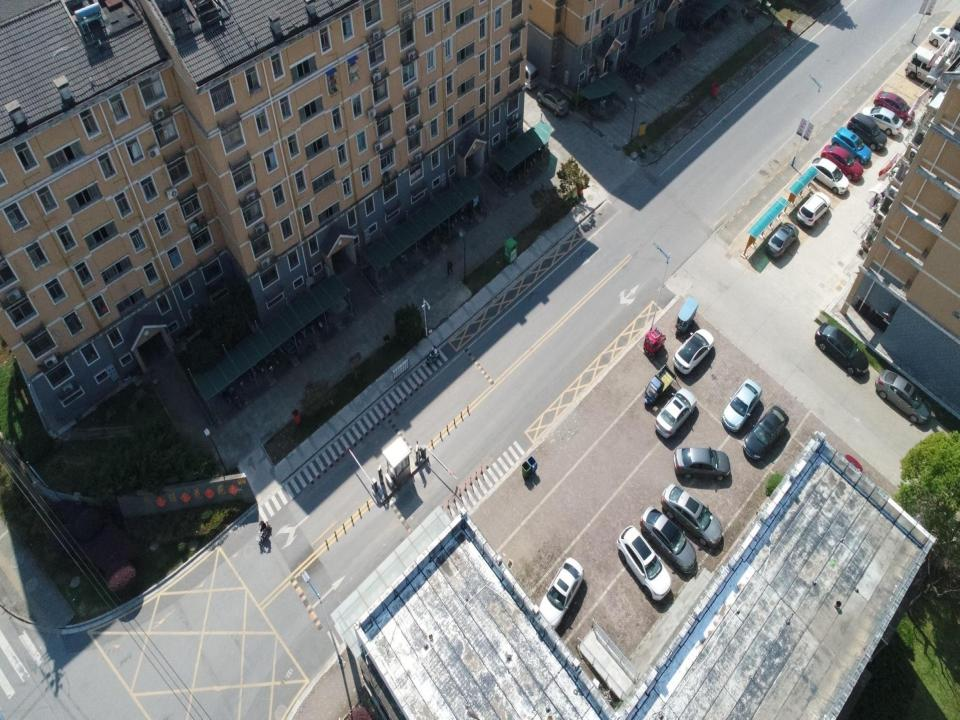car: (616, 524, 671, 602), (639, 504, 697, 576), (661, 482, 722, 547), (535, 556, 584, 632), (875, 368, 932, 425), (814, 322, 870, 376), (741, 405, 790, 462), (654, 386, 697, 440), (721, 378, 762, 434), (673, 446, 731, 482), (672, 328, 714, 375), (807, 155, 850, 195), (847, 111, 888, 151), (821, 144, 864, 182), (831, 126, 872, 164), (873, 90, 915, 126), (861, 104, 904, 136), (796, 191, 831, 228), (765, 221, 799, 259), (536, 87, 570, 116), (928, 25, 959, 50)
van: (904, 45, 960, 89), (513, 52, 540, 90)
